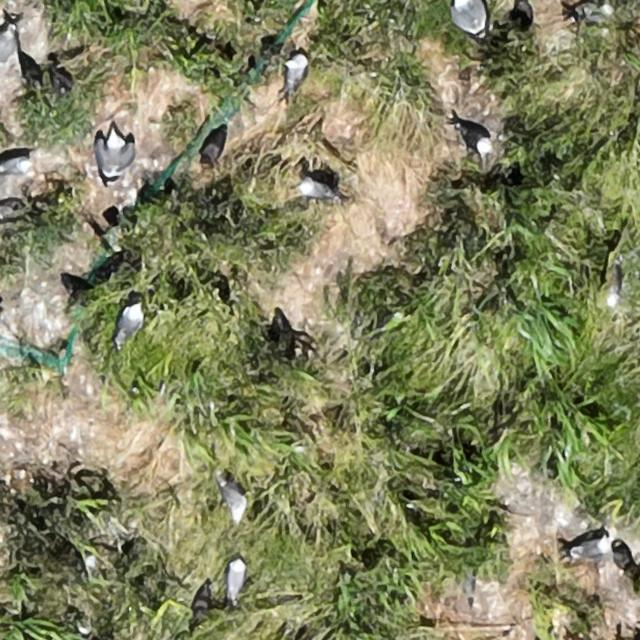umineko: (454, 1, 484, 34), (117, 302, 142, 340), (222, 484, 245, 522), (460, 125, 492, 152), (104, 136, 124, 175), (608, 258, 623, 307), (227, 558, 246, 596), (572, 539, 610, 558), (285, 56, 305, 88), (299, 180, 330, 200), (2, 156, 30, 175)
